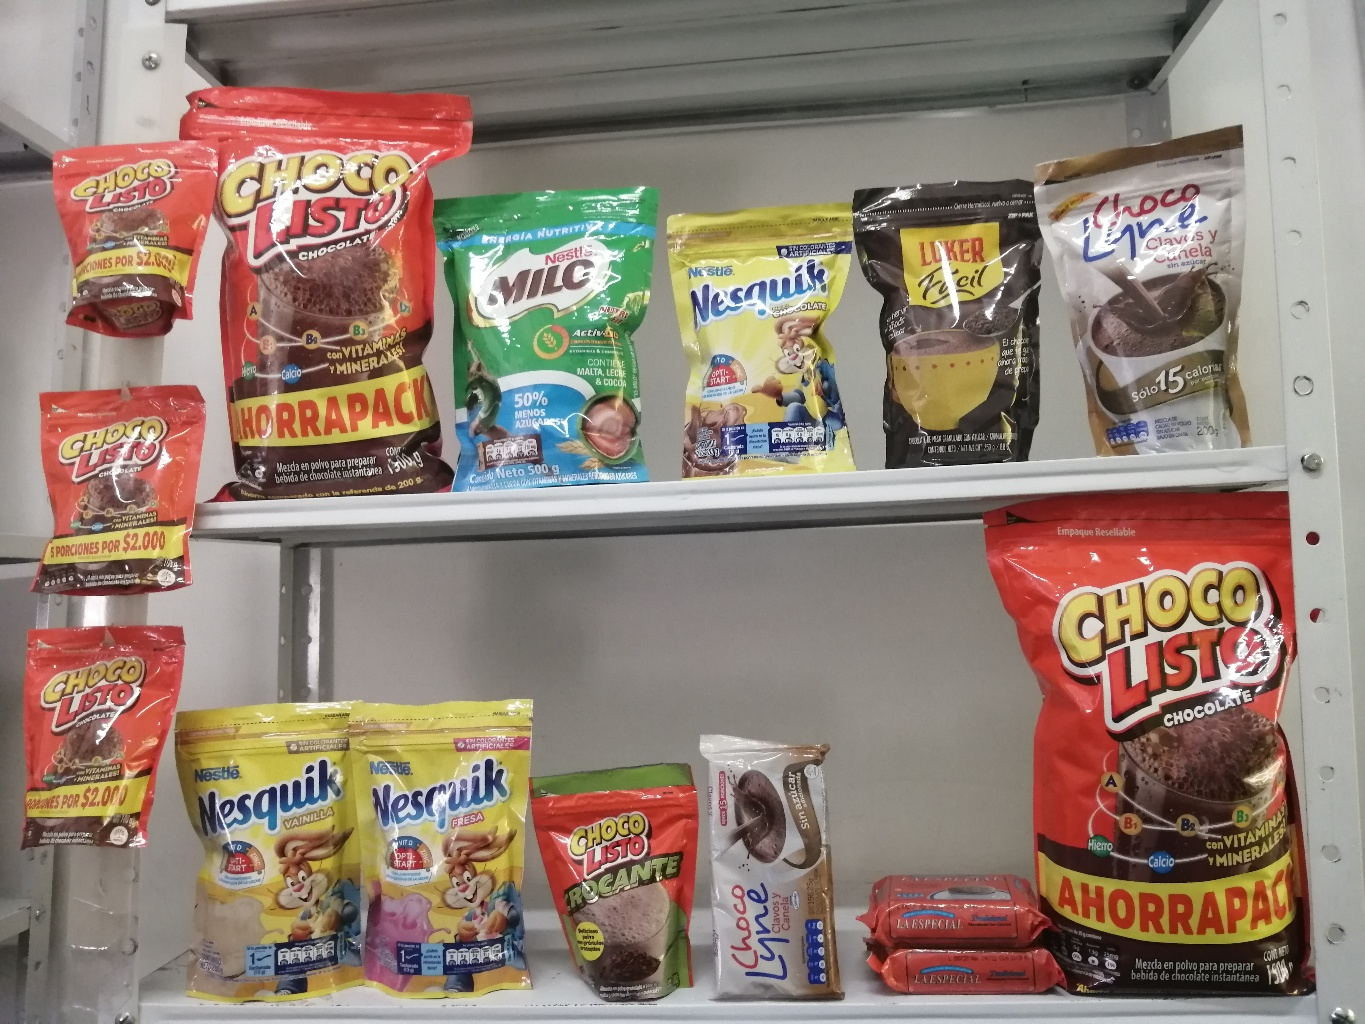COL0170102DYP10000: (530, 744, 717, 1011)
COL0170103DYP1,500: (187, 68, 464, 489)
COL0170103DYP10000: (42, 128, 215, 349)
COL0170205DYP50000: (433, 172, 683, 489)
COL0170303DYP20000: (668, 177, 877, 473)
COL0170305DYP20000: (344, 693, 538, 999)
COL0170306DYP20000: (162, 693, 373, 993)
